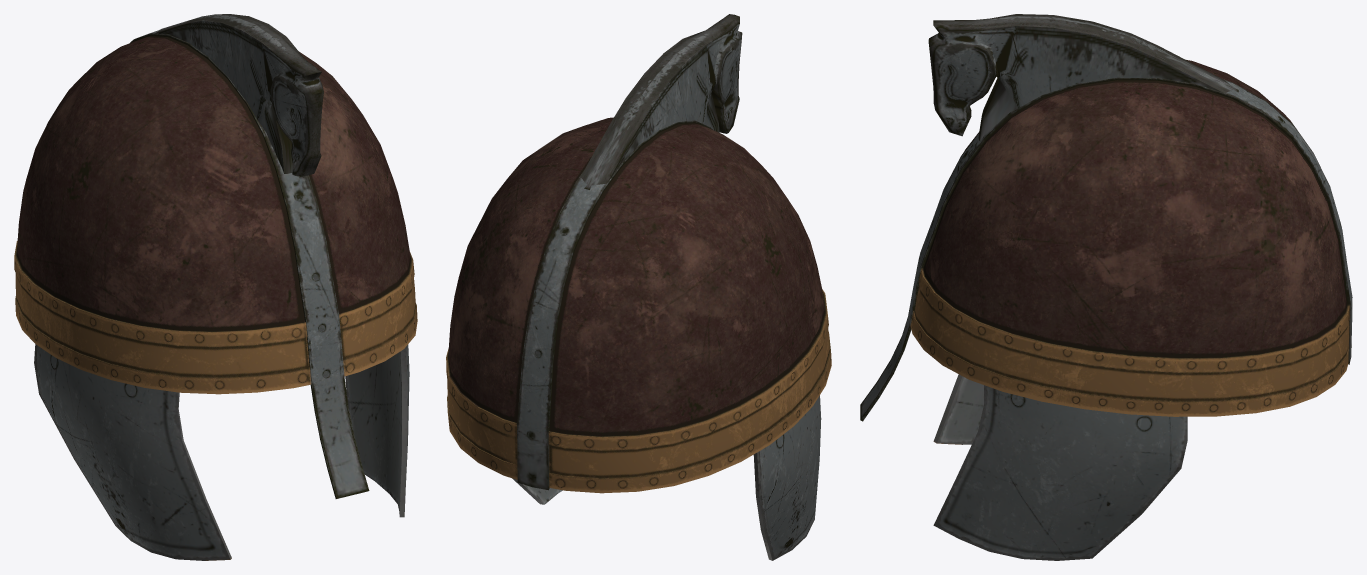
The model's file is cts_rohan_helmet1a.fbx.
3 views of the same model, side by side, from view 1: azimuth 30°, elevation 25°; view 2: azimuth 150°, elevation 25°; view 3: azimuth 270°, elevation 25° (orthographic). The views are drawn at different scales.
Visible parts, largest first — view 1: cts_rohan_helmet1a; view 2: cts_rohan_helmet1a; view 3: cts_rohan_helmet1a.
Part boxes in pixels (x1,y1,x2,y2): cts_rohan_helmet1a: [14, 14, 417, 560]; cts_rohan_helmet1a: [446, 14, 831, 560]; cts_rohan_helmet1a: [860, 14, 1352, 560].
Bounding box in the file's own units: 0.1913 × 0.2555 × 0.2765.
Materials: 1 (1 with a texture image).
